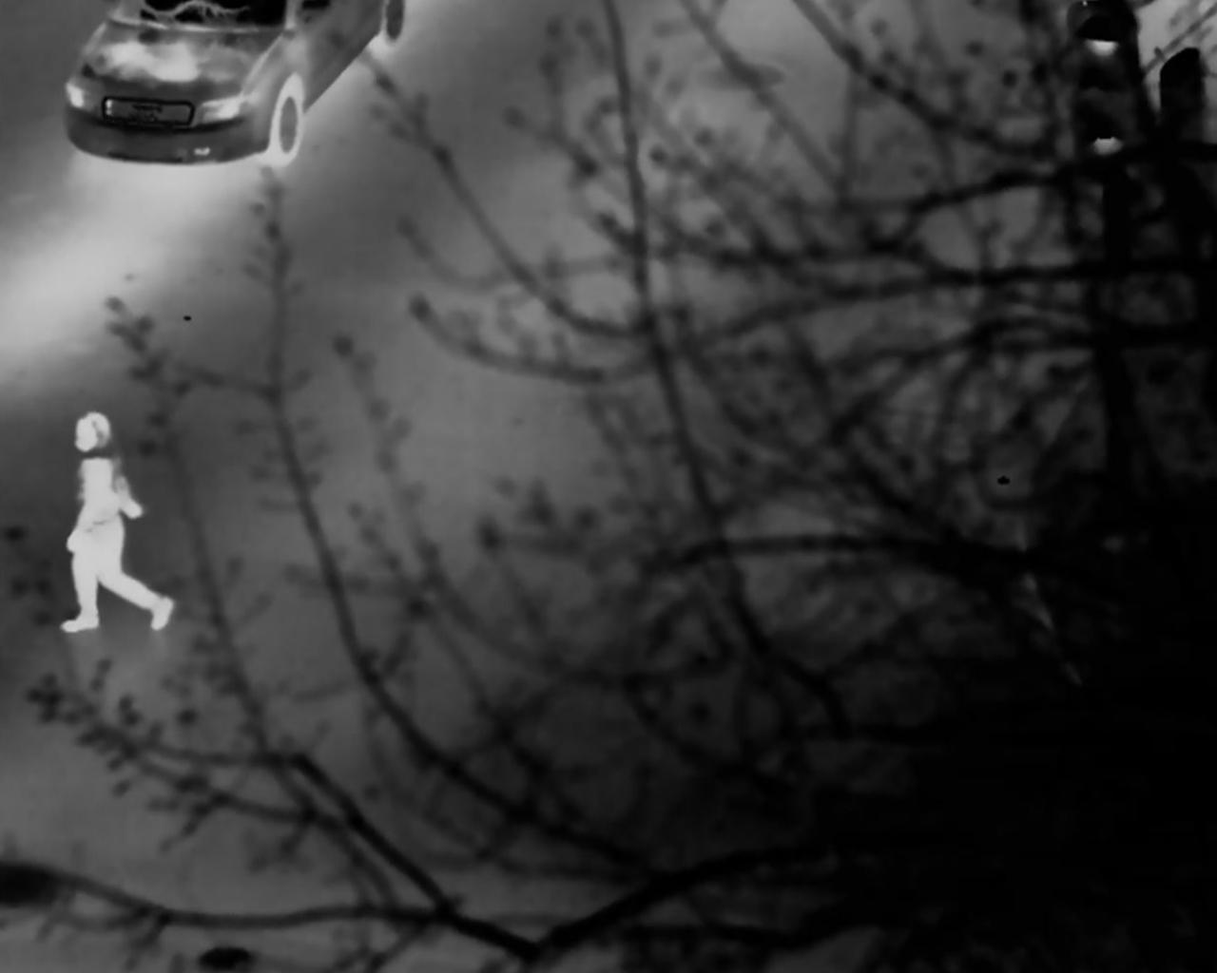person: (49, 415, 183, 626)
